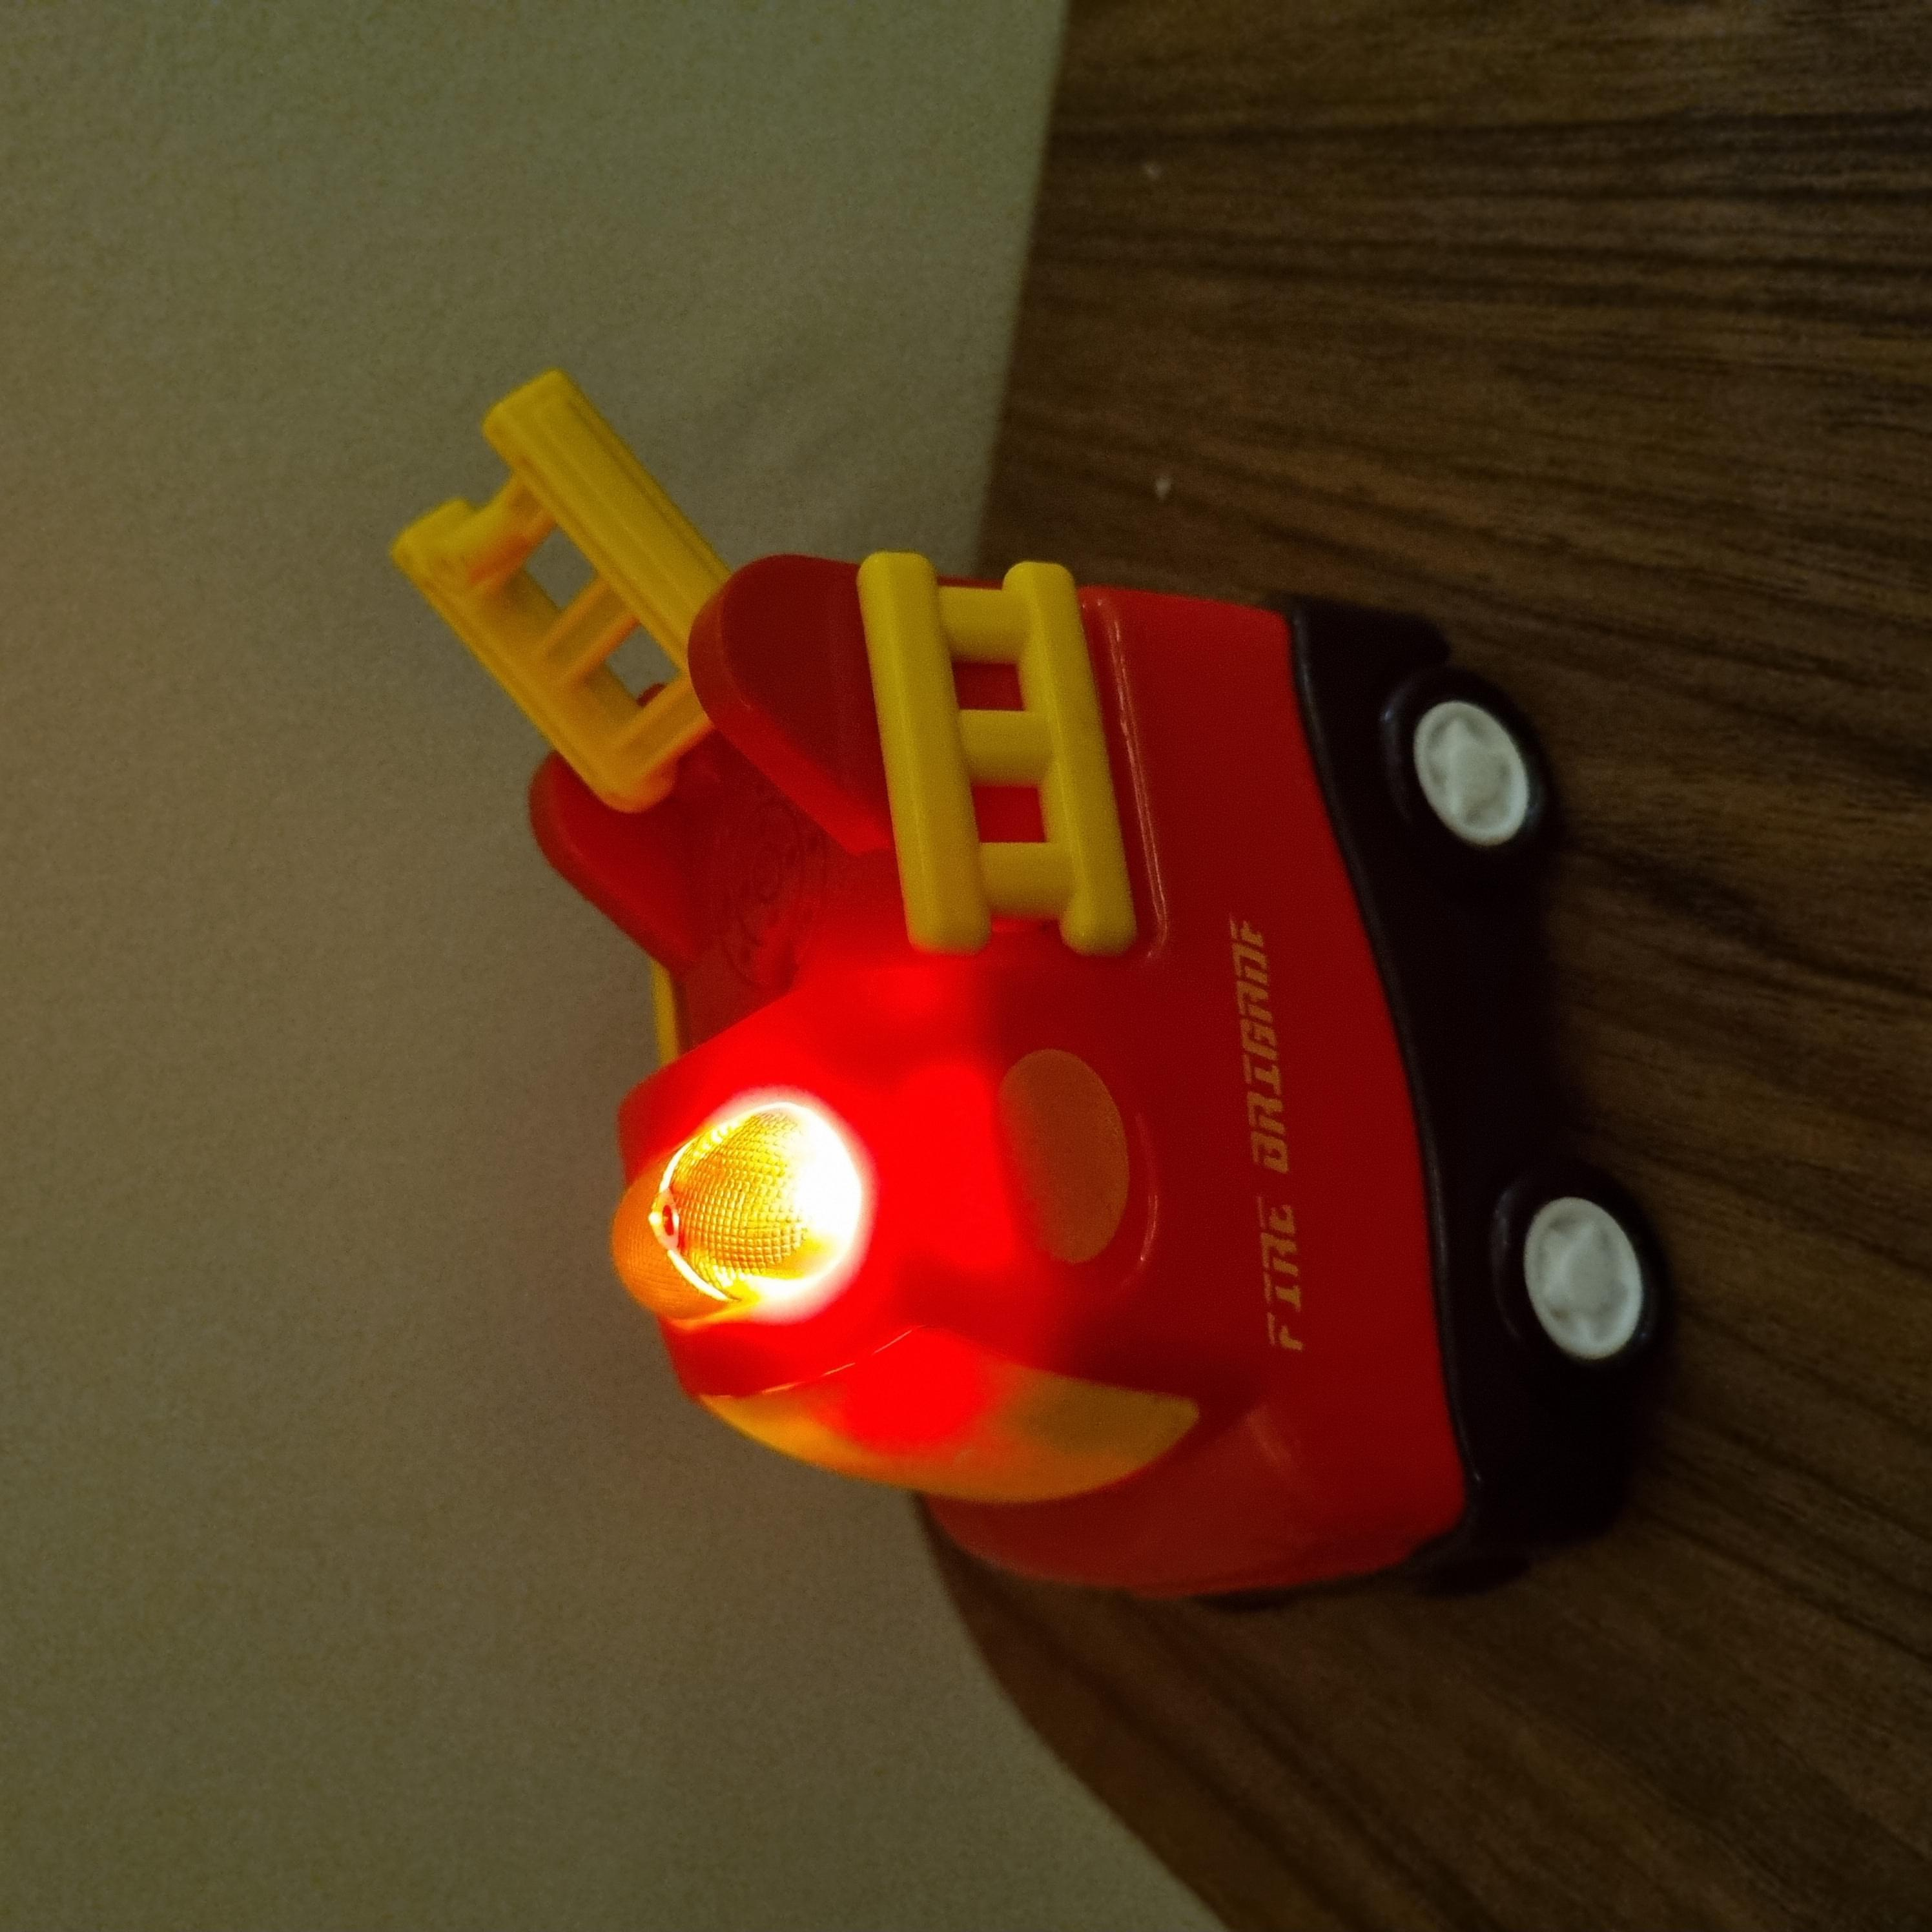firetruck_on: (333, 395, 1564, 1656)
